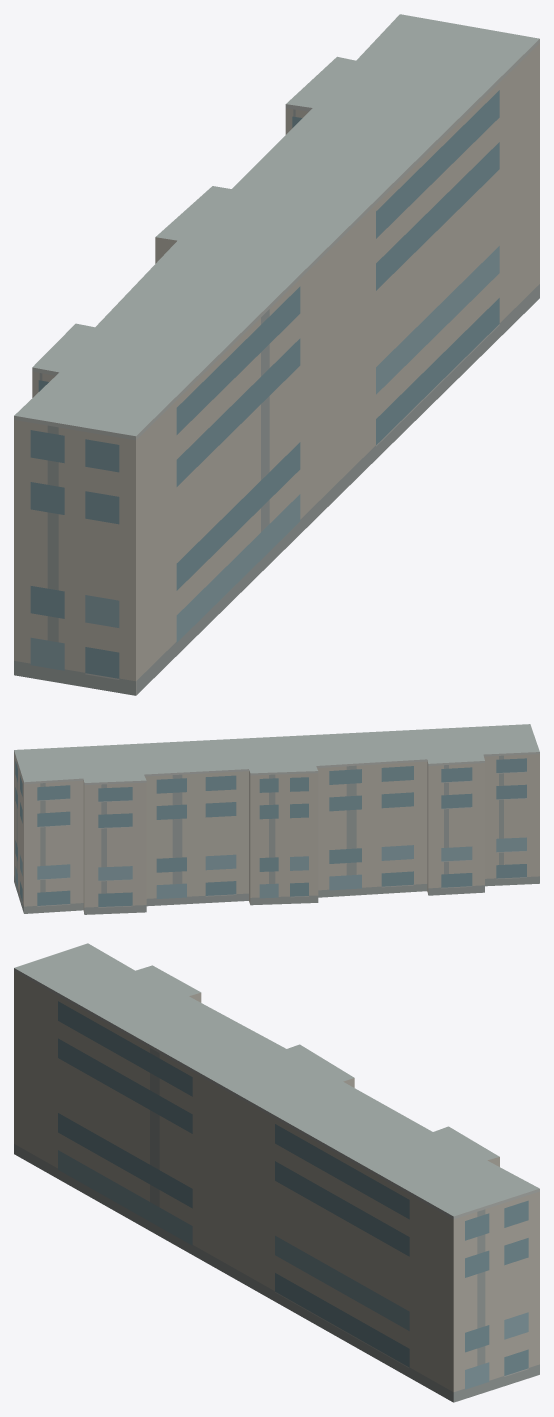
File: survey-upis-32783795.glb
3 views of the same model, one above another, from view 1: azimuth 30°, elevation 25°; view 2: azimuth 150°, elevation 25°; view 3: azimuth 270°, elevation 25° (orthographic). The views are drawn at different scales.
Parts seen in each view (by area): view 1: survey-upis-32783795.tmp; view 2: survey-upis-32783795.tmp; view 3: survey-upis-32783795.tmp.
Part boxes in pixels (x1=…): survey-upis-32783795.tmp: x1=14, y1=14, x2=539, y2=695; survey-upis-32783795.tmp: x1=14, y1=724, x2=539, y2=914; survey-upis-32783795.tmp: x1=14, y1=943, x2=539, y2=1402.
Size of the model in its own units: 48.01 by 15.25 by 39.05.
